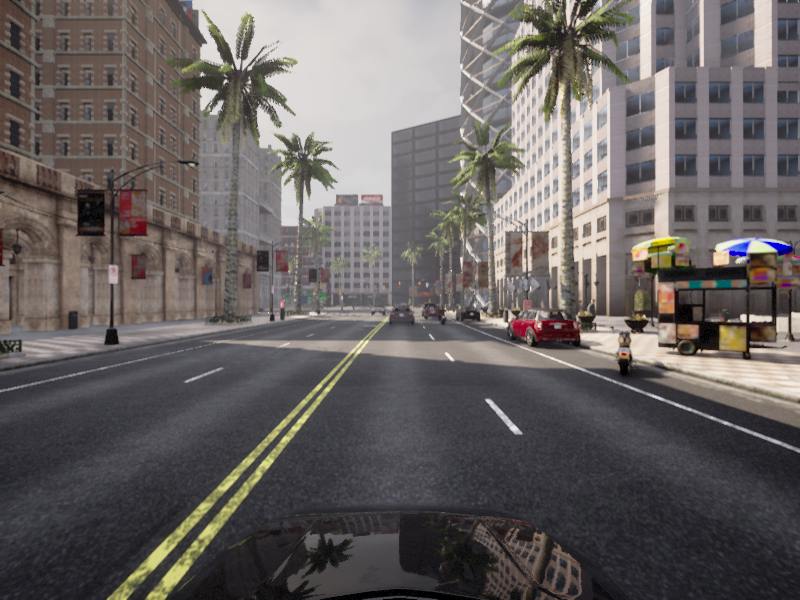vehicle: (388, 305, 415, 325), (422, 304, 443, 319), (436, 305, 448, 325)
